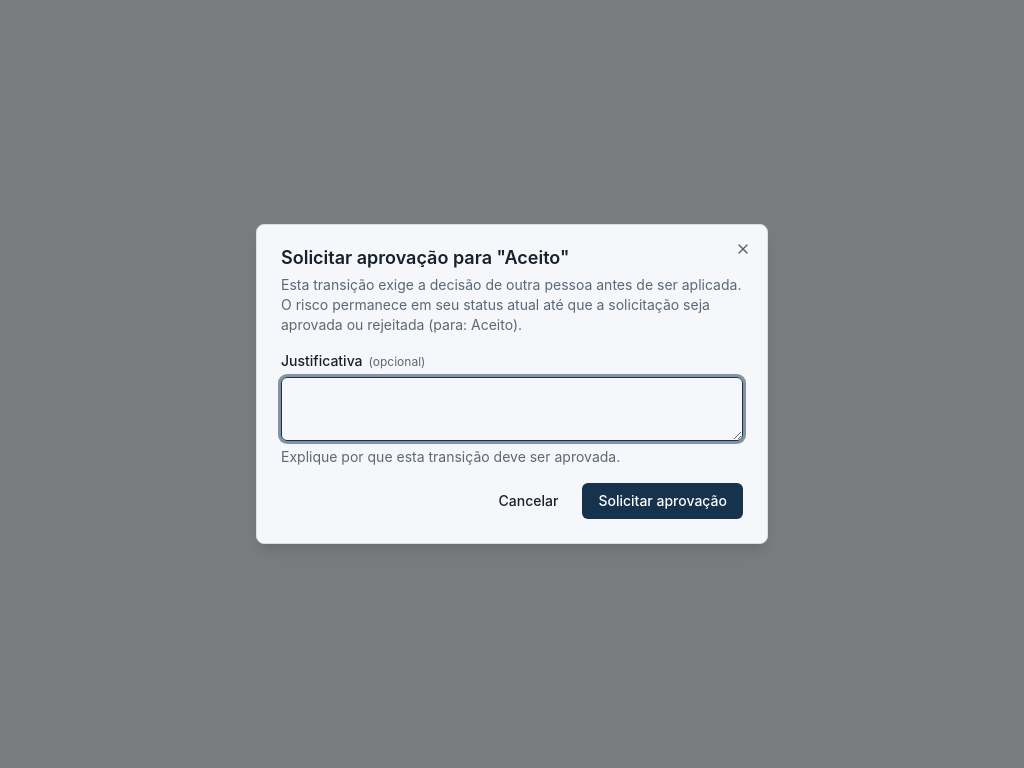
it: RequestApprovalDialog › shows the server-localized detail on a 409 conflict
Click the button "Solicitar aprovação" at (663, 501), box [582,483,743,519]
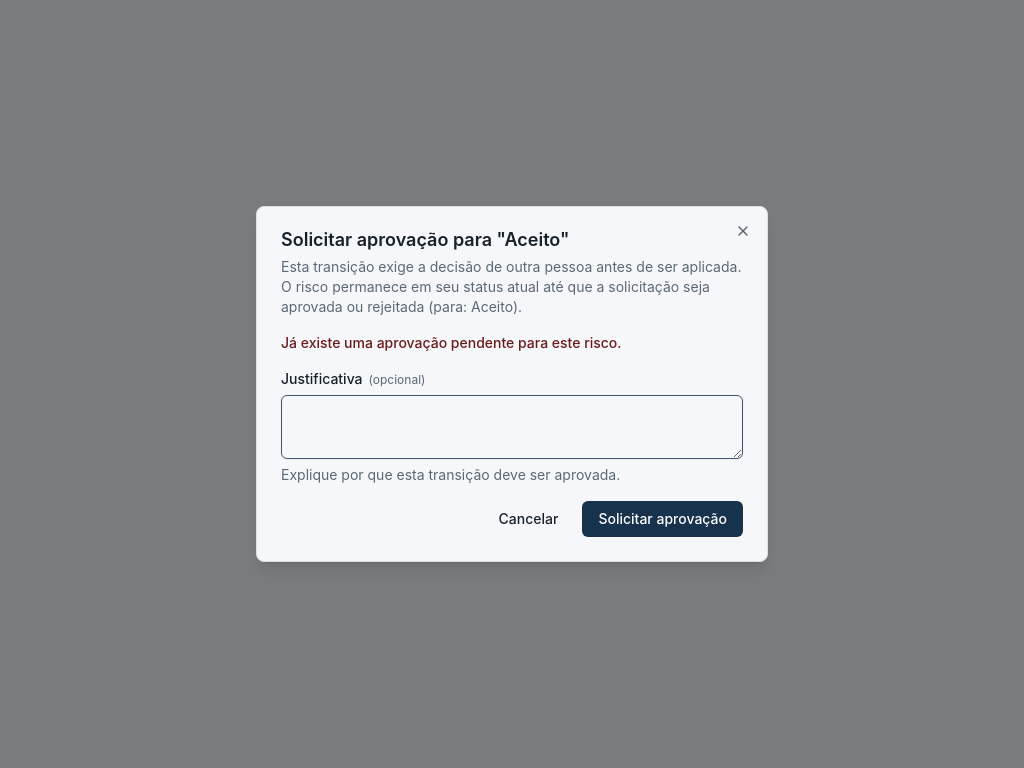
Check: the text "Já existe uma aprovação pendente para este risco." is shown, box [281,334,622,351]
